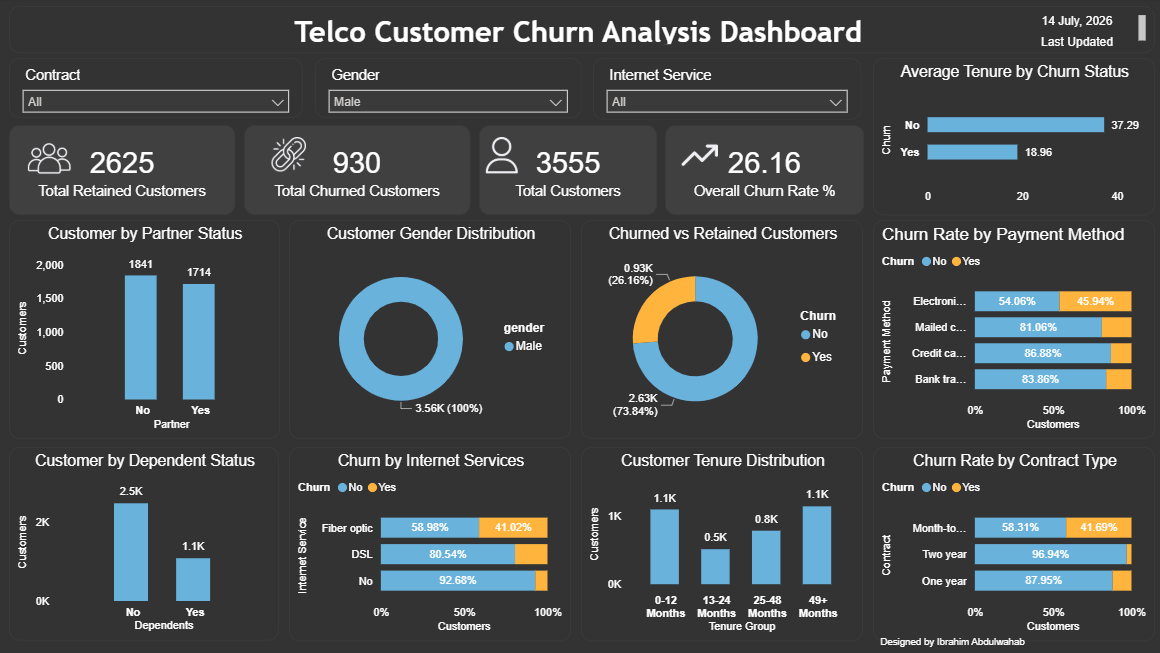

The page's visual inventory and layout, read from the dashboard file:
{"tool":"powerbi","page":{"name":"Page 1","canvas":[1280,720],"ordinal":0},"visuals":[{"type":"card","fields":{"Values":["Telco_Customer_Churn_Dataset.Churn Rate"]},"box":[733.7,139.7,218.8,99],"z":0},{"type":"donutChart","title":"Churned  vs Retained Customers","fields":{"Category":["Telco_Customer_Churn_Dataset.Churn"],"Y":["CountNonNull(Telco_Customer_Churn_Dataset.customerID)"]},"box":[641.3,244.6,310.2,241.4],"z":1000},{"type":"donutChart","title":"Customer Gender Distribution","fields":{"Category":["Telco_Customer_Churn_Dataset.gender"],"Y":["CountNonNull(Telco_Customer_Churn_Dataset.gender)"]},"box":[320.1,244.6,310.2,241.4],"z":2000},{"type":"clusteredColumnChart","title":"Customer by Partner Status","fields":{"Y":["CountNonNull(Telco_Customer_Churn_Dataset.customerID)"],"Category":["Telco_Customer_Churn_Dataset.Partner"]},"box":[11.6,244.6,297.5,241.4],"z":3000},{"type":"clusteredColumnChart","title":"Customer by Dependent Status","fields":{"Category":["Telco_Customer_Churn_Dataset.Dependents"],"Y":["CountNonNull(Telco_Customer_Churn_Dataset.customerID)"]},"box":[12.1,493.7,296.9,213.3],"z":4000},{"type":"clusteredColumnChart","title":"Customer Tenure Distribution","fields":{"Y":["CountNonNull(Telco_Customer_Churn_Dataset.customerID)"],"Category":["Telco_Customer_Churn_Dataset.Tenure Group"]},"box":[641.3,493.4,310.2,213.9],"z":5000},{"type":"clusteredBarChart","title":"Average Tenure by Churn Status","fields":{"Category":["Telco_Customer_Churn_Dataset.Churn"],"Y":["Avg(Telco_Customer_Churn_Dataset.tenure)"]},"box":[962.2,66,310.1,172.6],"z":6000},{"type":"hundredPercentStackedBarChart","title":"Churn Rate by Contract Type","fields":{"Category":["Telco_Customer_Churn_Dataset.Contract"],"Series":["Telco_Customer_Churn_Dataset.Churn"],"Y":["CountNonNull(Telco_Customer_Churn_Dataset.customerID)"]},"box":[962.5,493.4,310.2,213.9],"z":7000},{"type":"hundredPercentStackedBarChart","title":"Churn Rate by Payment Method","fields":{"Category":["Telco_Customer_Churn_Dataset.PaymentMethod"],"Series":["Telco_Customer_Churn_Dataset.Churn"],"Y":["CountNonNull(Telco_Customer_Churn_Dataset.customerID)"]},"box":[962.5,244.6,310.2,241.4],"z":8000},{"type":"hundredPercentStackedBarChart","title":"Churn by Internet Services","fields":{"Category":["Telco_Customer_Churn_Dataset.InternetService"],"Series":["Telco_Customer_Churn_Dataset.Churn"],"Y":["CountNonNull(Telco_Customer_Churn_Dataset.customerID)"]},"box":[320.1,493.4,310.2,213.9],"z":9000},{"type":"textbox","box":[11.6,8.5,1260,51.9],"z":10000},{"type":"card","fields":{"Values":["CountNonNull(Telco_Customer_Churn_Dataset.customerID)"]},"box":[528.4,139.7,195.7,99],"z":11000},{"type":"card","fields":{"Values":["Telco_Customer_Churn_Dataset.Total Churned"]},"box":[270.2,139.7,248.5,99],"z":12000},{"type":"card","fields":{"Values":["Telco_Customer_Churn_Dataset.Total Retained"]},"box":[12.1,139.7,248.5,99],"z":13000},{"type":"slicer","fields":{"Values":["Telco_Customer_Churn_Dataset.gender"]},"box":[348.6,66,292.5,66],"z":14000},{"type":"slicer","fields":{"Values":["Telco_Customer_Churn_Dataset.Contract"]},"box":[12.1,66,323.3,66],"z":15000},{"type":"slicer","fields":{"Values":["Telco_Customer_Churn_Dataset.InternetService"]},"box":[654.3,66,294.7,68.2],"z":16000},{"type":"card","fields":{"Values":["Telco_Customer_Churn_Dataset.Last Updated"]},"box":[1130.4,8.8,112.2,51.7],"z":17000},{"type":"textbox","box":[962.2,695,174.8,25.3],"z":18000},{"type":"image","box":[528.9,152.9,49.5,39.6],"z":19000},{"type":"image","box":[747.8,152.9,48.4,39.6],"z":20000},{"type":"image","box":[294.7,152.9,49.5,38.5],"z":23500},{"type":"image","box":[31.9,152.9,49.5,47.3],"z":24000}]}

Visuals, with their boxes in screenshot pixels (x1, y1, x2, y2), scaled from the page's 1280x720 canvas onto the 1160x653 screenshot:
card - Telco_Customer_Churn_Dataset.Churn Rate: 665:127:863:216
"Churned  vs Retained Customers" donutChart: 581:222:862:441
"Customer Gender Distribution" donutChart: 290:222:571:441
"Customer by Partner Status" clusteredColumnChart: 11:222:280:441
"Customer by Dependent Status" clusteredColumnChart: 11:448:280:641
"Customer Tenure Distribution" clusteredColumnChart: 581:447:862:641
"Average Tenure by Churn Status" clusteredBarChart: 872:60:1153:216
"Churn Rate by Contract Type" hundredPercentStackedBarChart: 872:447:1153:641
"Churn Rate by Payment Method" hundredPercentStackedBarChart: 872:222:1153:441
"Churn by Internet Services" hundredPercentStackedBarChart: 290:447:571:641
textbox: 11:8:1152:55
card - CountNonNull(Telco_Customer_Churn_Dataset.customerID): 479:127:656:216
card - Telco_Customer_Churn_Dataset.Total Churned: 245:127:470:216
card - Telco_Customer_Churn_Dataset.Total Retained: 11:127:236:216
slicer - Telco_Customer_Churn_Dataset.gender: 316:60:581:120
slicer - Telco_Customer_Churn_Dataset.Contract: 11:60:304:120
slicer - Telco_Customer_Churn_Dataset.InternetService: 593:60:860:122
card - Telco_Customer_Churn_Dataset.Last Updated: 1024:8:1126:55
textbox: 872:630:1030:652
image: 479:139:524:175
image: 678:139:722:175
image: 267:139:312:174
image: 29:139:74:182
